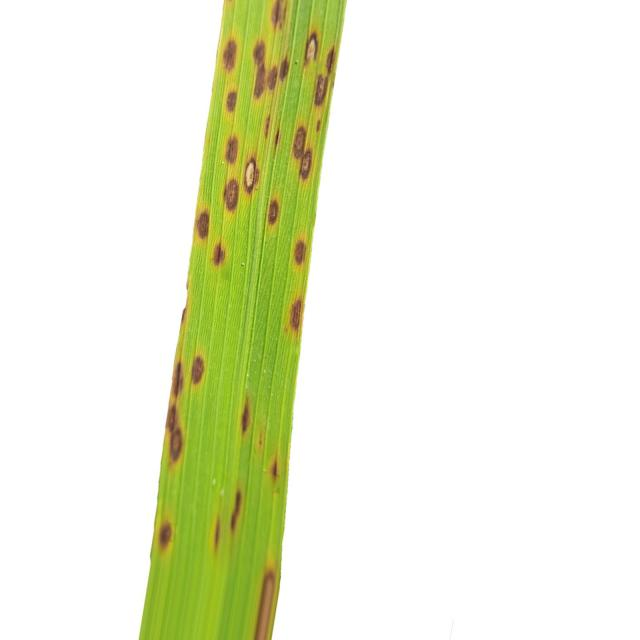Brown_Spot: (166, 360, 185, 465), (254, 568, 276, 640), (228, 489, 242, 534), (254, 41, 265, 98), (156, 520, 174, 550), (244, 158, 259, 192), (190, 355, 205, 387), (224, 179, 239, 211), (292, 126, 306, 159), (271, 0, 286, 29), (222, 40, 236, 71), (315, 75, 328, 106), (290, 299, 302, 331), (196, 211, 209, 239), (305, 34, 318, 61), (300, 150, 312, 179), (225, 138, 238, 163), (212, 516, 221, 551), (241, 399, 250, 432), (294, 241, 306, 265), (212, 244, 225, 265), (268, 200, 279, 224), (268, 66, 278, 90), (279, 58, 289, 81), (326, 48, 335, 73), (226, 91, 236, 111), (271, 459, 278, 476), (265, 116, 270, 137), (275, 130, 280, 147), (316, 120, 321, 131)
